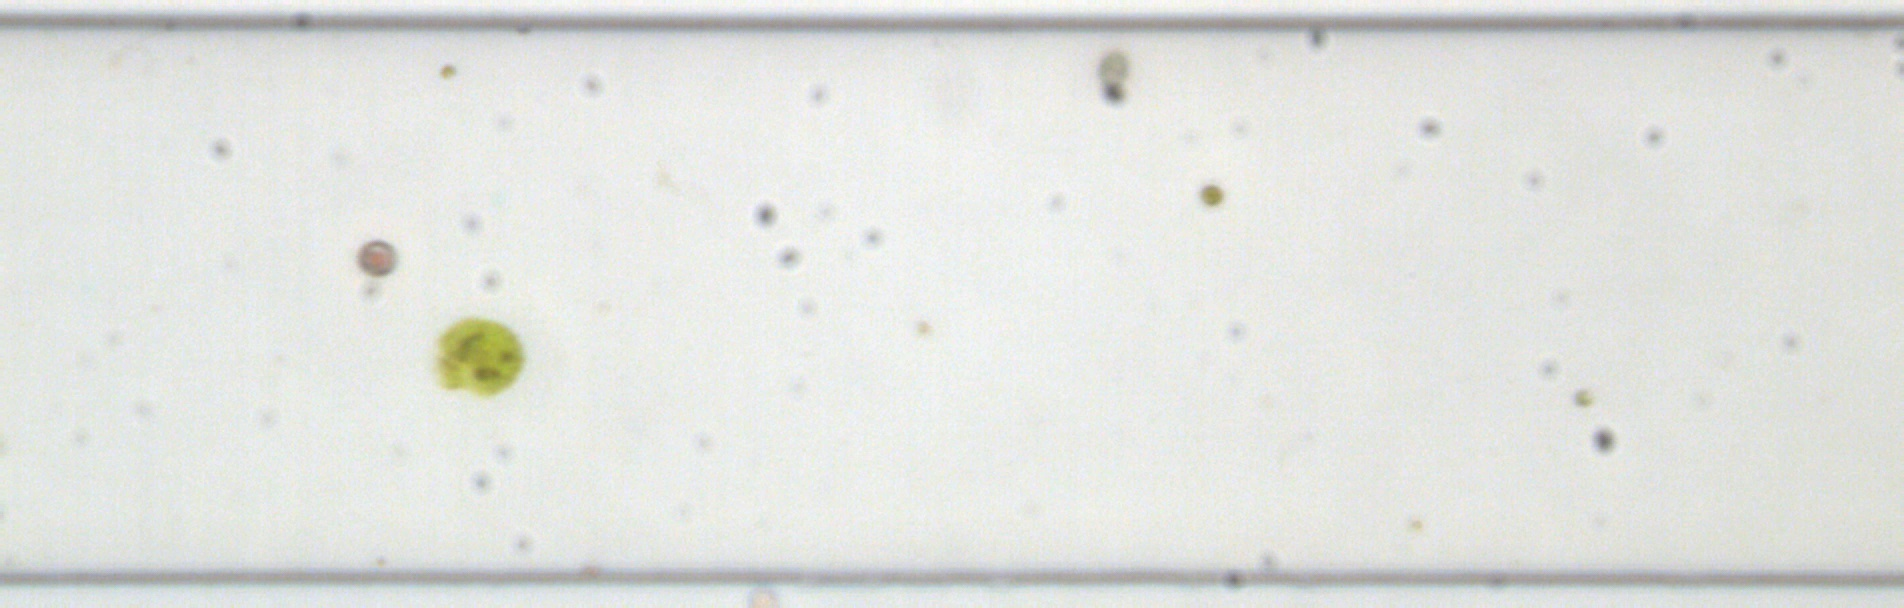Chlorella: (1196, 178, 1228, 209), (1570, 385, 1593, 410), (437, 59, 458, 80), (914, 316, 930, 334), (1409, 516, 1422, 530)
Dunaliella salina: (1096, 46, 1130, 93)
Haematococcus: (429, 313, 528, 400)
Porphyridium: (355, 235, 399, 278)
